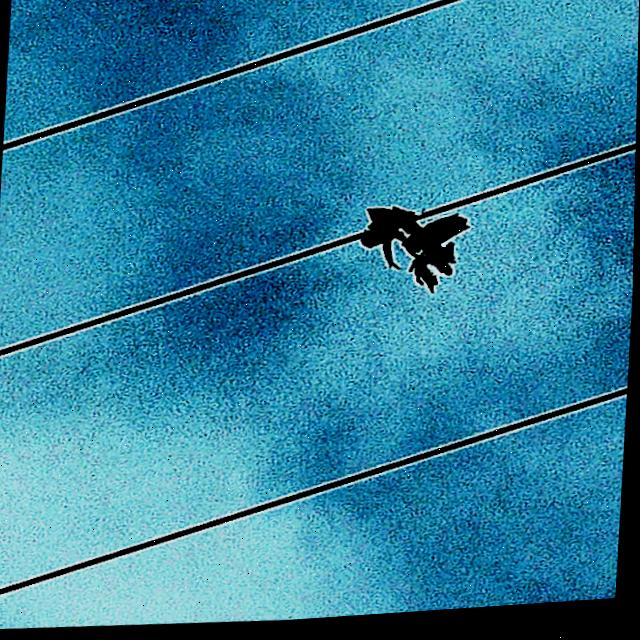obstruction: (354, 208, 477, 304)
wires: (0, 389, 628, 606), (3, 0, 529, 164), (0, 236, 356, 360), (417, 148, 637, 227)
